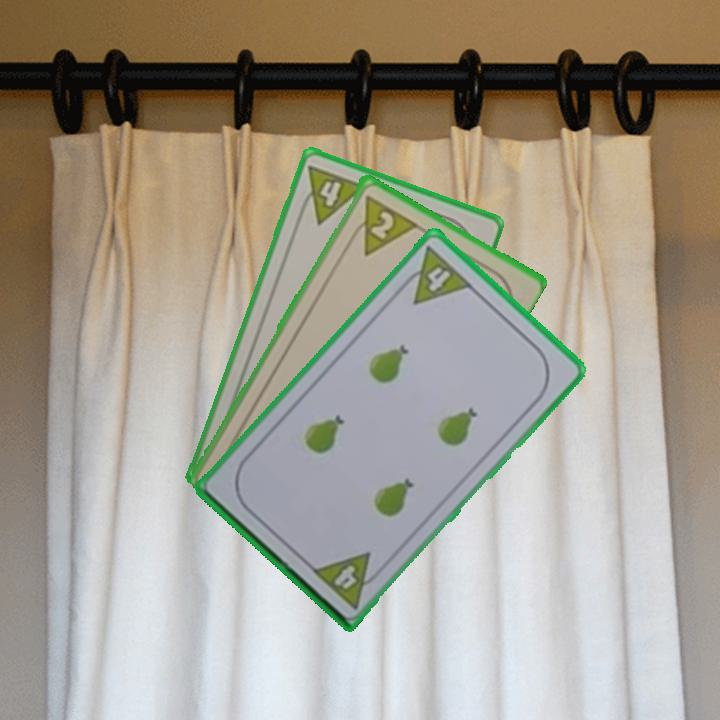2p: (343, 190, 419, 258)
4p: (395, 242, 475, 307), (308, 548, 387, 612), (293, 161, 368, 227)
